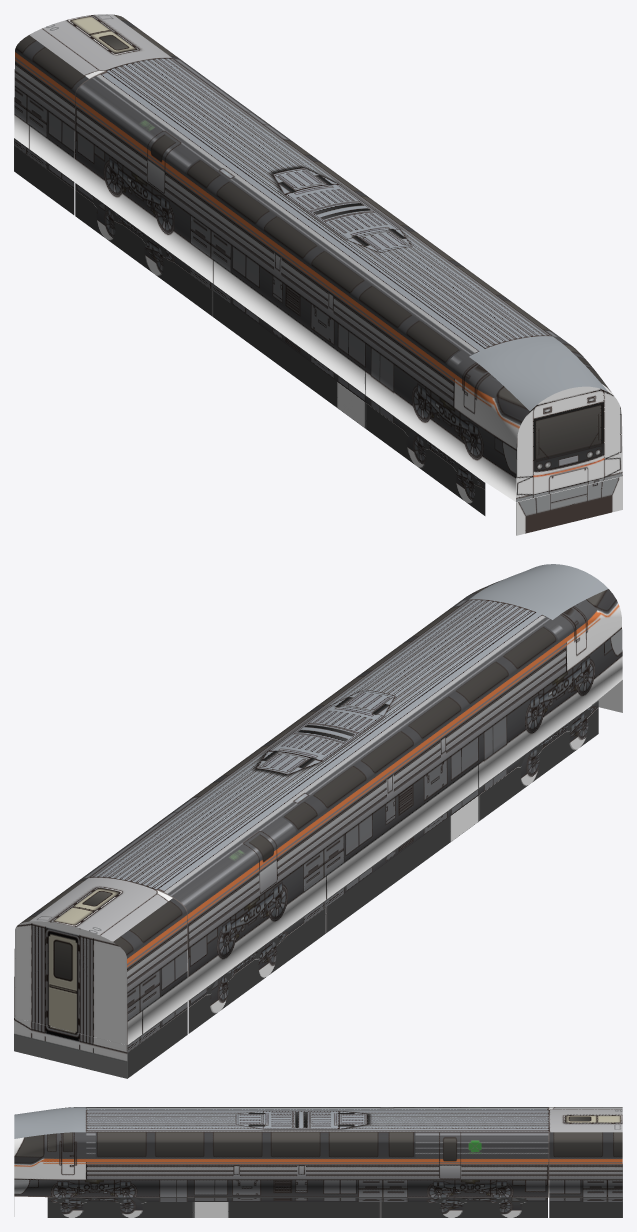
Rendered from car1.glb.
The picture shows the model from 3 angles, top to bottom: view 1: azimuth 30°, elevation 25°; view 2: azimuth 150°, elevation 25°; view 3: azimuth 270°, elevation 25°; orthographic projection. The views are drawn at different scales.
Visible parts, largest first — view 1: jr-tokai-383-car1; view 2: jr-tokai-383-car1; view 3: jr-tokai-383-car1.
Boxes of the visible parts, x1,y1,x2,y2 form: jr-tokai-383-car1: [14, 14, 622, 535]; jr-tokai-383-car1: [14, 564, 622, 1078]; jr-tokai-383-car1: [14, 1107, 622, 1217].
Bounding box in the file's own units: 2.88 × 3.37 × 21.95.
9 materials, 8 textured.
